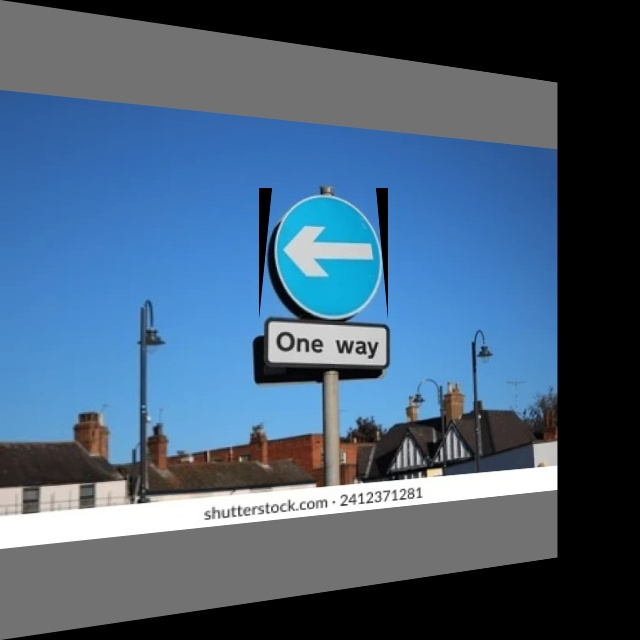Compulsory_Turn_Left: (259, 188, 388, 320)
